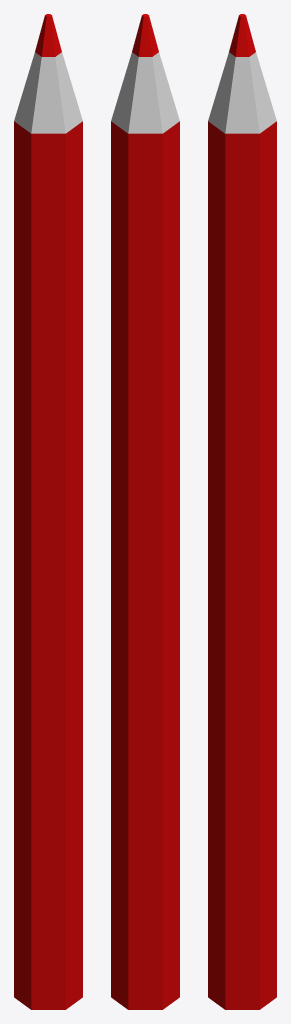
File: Pencil_Colored_01_SlicedVertical.fbx
3 views of the same model, side by side, from view 1: azimuth 30°, elevation 25°; view 2: azimuth 210°, elevation 25°; view 3: azimuth 330°, elevation 25° (orthographic).
Visible parts, largest first — view 1: Pencil_Colored_01, Pencil_Colored_01_1; view 2: Pencil_Colored_01_1, Pencil_Colored_01; view 3: Pencil_Colored_01_1, Pencil_Colored_01.
Part boxes in pixels (box(x1,y1,x2,y2)): Pencil_Colored_01: box(14, 14, 65, 1009); Pencil_Colored_01_1: box(47, 14, 82, 1009); Pencil_Colored_01_1: box(111, 14, 162, 1009); Pencil_Colored_01: box(144, 14, 179, 1009); Pencil_Colored_01_1: box(225, 14, 276, 1009); Pencil_Colored_01: box(208, 14, 243, 1009).
Size of the model in its own units: 1.01 by 18.27 by 1.16.
